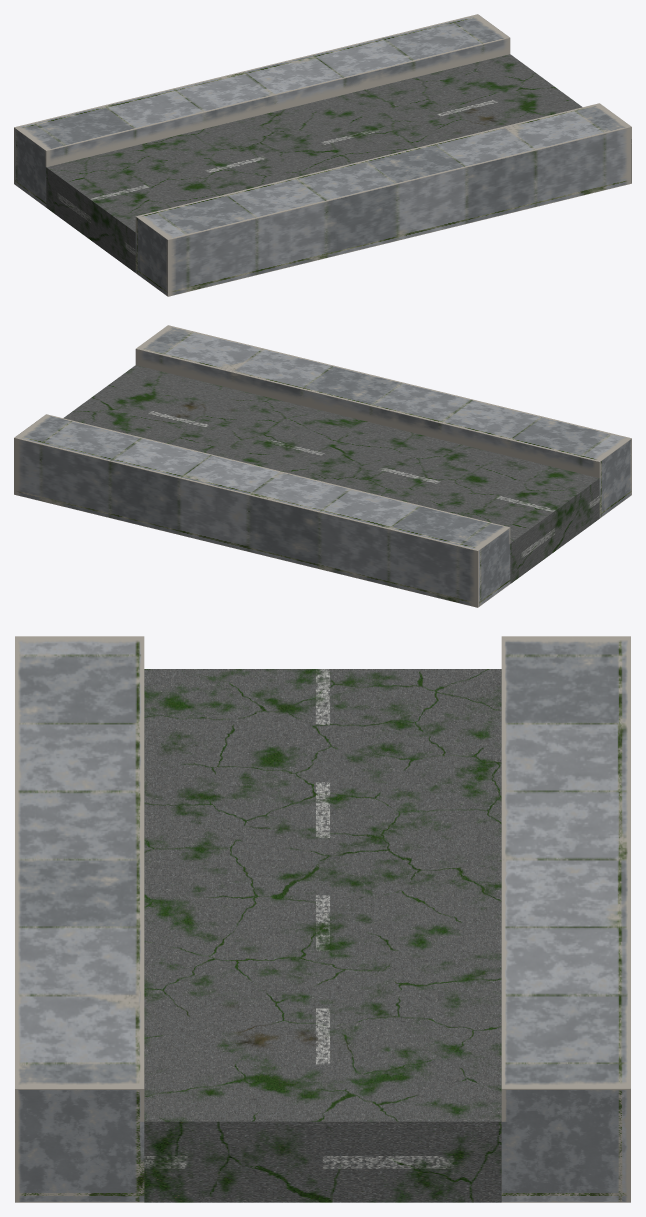
The model's file is Road.fbx.
3 renders of one model, top to bottom at view 1: azimuth 30°, elevation 25°; view 2: azimuth 150°, elevation 25°; view 3: azimuth 270°, elevation 25°, orthographic. The views are drawn at different scales.
Visible parts, largest first — view 1: Paving; view 2: Paving; view 3: Paving.
Boxes of the visible parts, box(x1,y1,x2,y2) form: Paving: box(14, 14, 631, 296); Paving: box(14, 325, 631, 607); Paving: box(15, 636, 630, 1202).
Bounding box in the file's own units: 1200 × 140 × 690.
